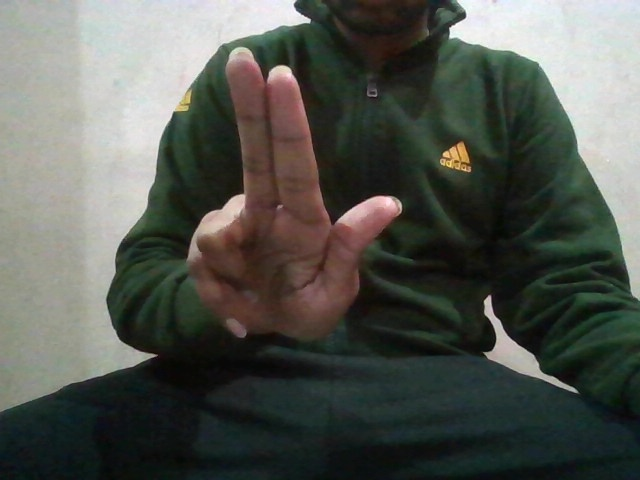K: (195, 46, 381, 345)
